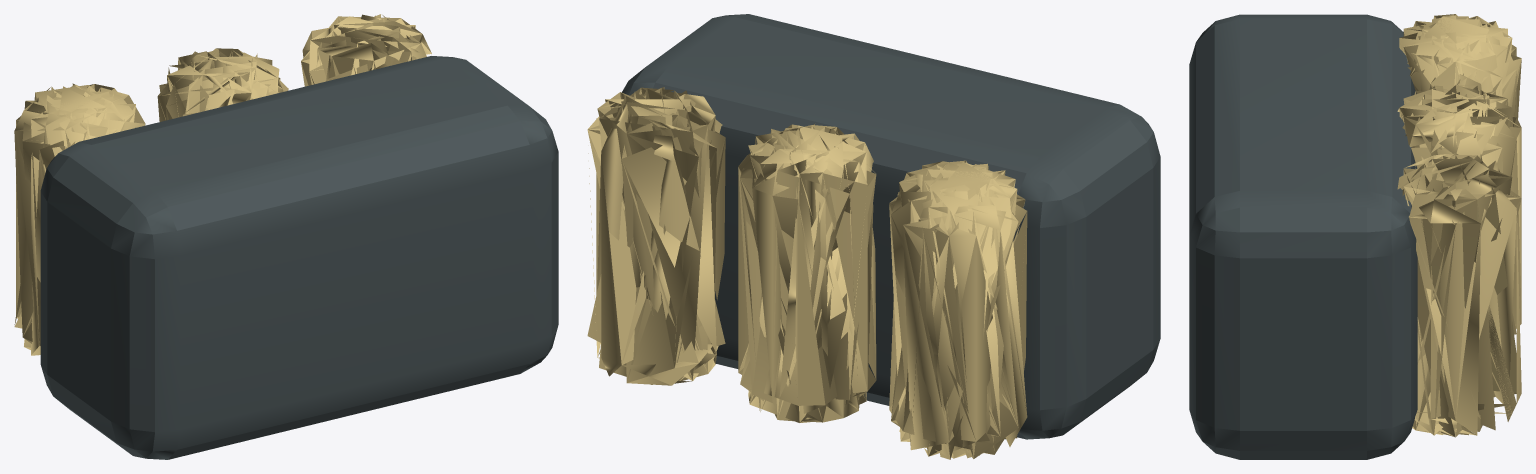
File: kit_sapper.glb
3 renders of one model, left to right at view 1: azimuth 30°, elevation 25°; view 2: azimuth 150°, elevation 25°; view 3: azimuth 270°, elevation 25°, orthographic. The views are drawn at different scales.
Visible parts, largest first — view 1: ChargeHarness, Charge, Charge.002, Charge.001; view 2: ChargeHarness, Charge.001, Charge, Charge.002; view 3: ChargeHarness, Charge.002, Charge.001, Charge.
Part boxes in pixels (x1,y1,x2,y2): ChargeHarness: [40, 56, 558, 459]; Charge: [14, 83, 145, 355]; Charge.002: [301, 14, 431, 86]; Charge.001: [157, 48, 288, 121]; ChargeHarness: [622, 14, 1160, 439]; Charge.001: [738, 124, 876, 422]; Charge: [889, 160, 1027, 459]; Charge.002: [587, 87, 725, 385]; ChargeHarness: [1189, 14, 1417, 459]; Charge.002: [1397, 153, 1521, 437]; Charge.001: [1397, 84, 1521, 334]; Charge: [1399, 14, 1521, 119].
Bounding box in the file's own units: 0.4 × 0.235 × 0.262.
